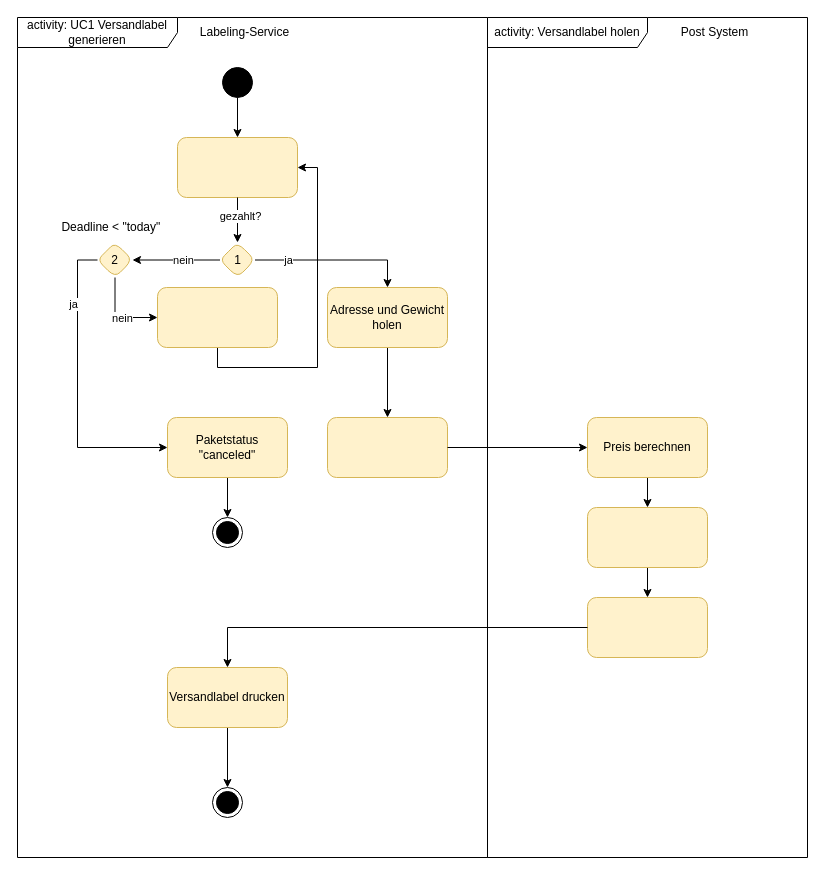
This 825x875 diagram has some shape labels left out. Here are the shapes that lost their labels. From the top down, the centre of each, then its label:
point (237, 167): PaketID eingeben
point (217, 317): 2 Tage warten
point (387, 447): Versandlabel anfrage
point (647, 537): Versandlabel generieren
point (647, 627): Versandlabel senden
